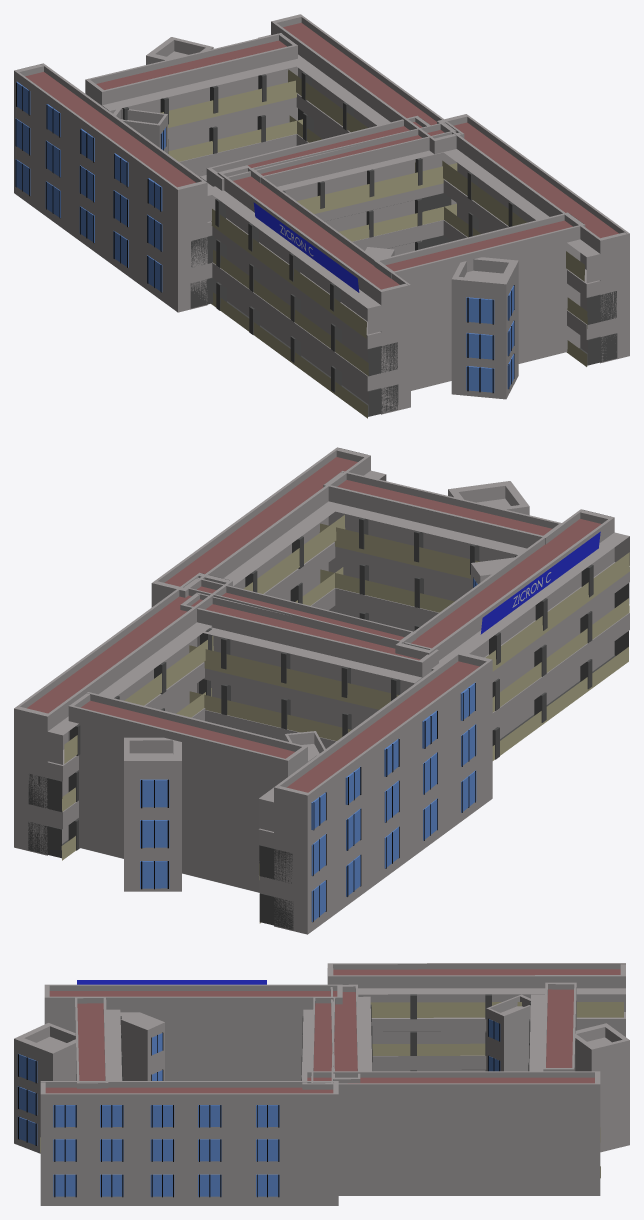
The model's file is zicronCglb.glb.
3 views of the same model, one above another, from view 1: azimuth 30°, elevation 25°; view 2: azimuth 150°, elevation 25°; view 3: azimuth 270°, elevation 25° (orthographic). The views are drawn at different scales.
Parts seen in each view (by area): view 1: Cube.201, Cube.001, Cube.013, Cube.003, Cube.008, Cube.014, Cube.007, Cube.042, Cube.012, Plane, Cube, Cube.049 (+3 smaller); view 2: Cube.001, Cube.201, Cube.003, Cube.007, Cube.012, Cube.008, Cube.013, Cube.049, Cube.014, Plane, Cube.042, Cube.050 (+2 smaller); view 3: Cube.007, Cube.013, Cube.001, Cube.201, Cube.049, Cube.003, Cube.008, Cube.042, Cube.012, Cube, Cube.009, Cube.014 (+19 smaller).
Part boxes in pixels (bbox=[...]): Cube.201: bbox=[207, 165, 410, 418]; Cube.001: bbox=[14, 63, 217, 312]; Cube.013: bbox=[437, 114, 629, 366]; Cube.003: bbox=[85, 33, 305, 176]; Cube.008: bbox=[374, 212, 585, 390]; Cube.014: bbox=[249, 122, 457, 255]; Cube.007: bbox=[258, 14, 464, 248]; Cube.042: bbox=[451, 257, 518, 399]; Cube.012: bbox=[200, 115, 430, 190]; Plane: bbox=[253, 202, 359, 292]; Cube: bbox=[113, 108, 167, 153]; Cube.049: bbox=[146, 37, 213, 64]; Cube.001: bbox=[258, 651, 492, 934]; Cube.201: bbox=[395, 509, 629, 760]; Cube.003: bbox=[68, 692, 316, 892]; Cube.007: bbox=[14, 572, 232, 860]; Cube.012: bbox=[180, 592, 438, 748]; Cube.008: bbox=[319, 471, 564, 631]; Cube.013: bbox=[151, 447, 386, 610]; Cube.049: bbox=[124, 737, 181, 891]; Cube.014: bbox=[183, 577, 416, 648]; Plane: bbox=[480, 531, 600, 634]; Cube.042: bbox=[448, 481, 529, 515]; Cube.050: bbox=[140, 779, 169, 808]; Cube.007: bbox=[302, 1071, 600, 1195]; Cube.013: bbox=[40, 1081, 338, 1205]; Cube.001: bbox=[327, 963, 625, 1071]; Cube.201: bbox=[44, 984, 342, 1080]; Cube.049: bbox=[575, 1023, 629, 1152]; Cube.003: bbox=[528, 982, 576, 1071]; Cube.008: bbox=[75, 996, 123, 1088]; Cube.042: bbox=[14, 1023, 75, 1153]; Cube.012: bbox=[330, 984, 372, 1083]; Cube: bbox=[486, 994, 530, 1071]; Cube.009: bbox=[120, 1012, 164, 1080]; Cube.014: bbox=[301, 996, 335, 1083].
Bounding box in the file's own units: 24.46 × 9.99 × 48.05.
